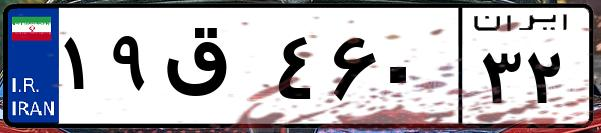0: (385, 28, 445, 110)
1: (57, 26, 110, 100)
2: (525, 38, 570, 115)
3: (475, 38, 525, 113)
4: (270, 28, 330, 110)
6: (330, 28, 385, 110)
9: (110, 28, 158, 98)
ق: (158, 20, 270, 120)
